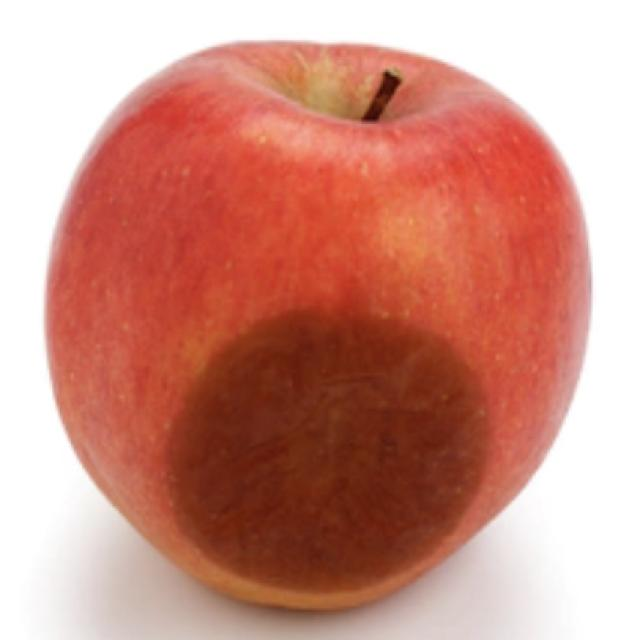apple: (46, 42, 589, 608)
